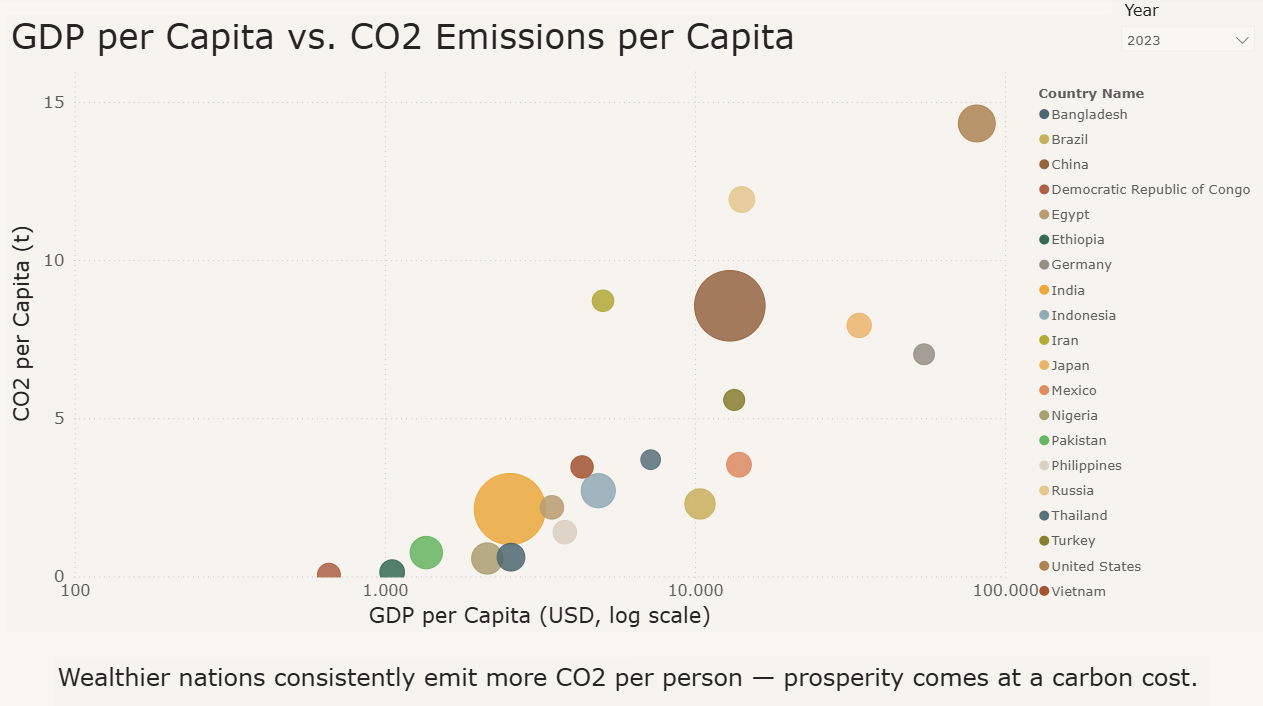

What the dashboard file says about the page in this screenshot:
{"tool":"powerbi","page":{"name":"co2 x gdp","canvas":[1280,720],"ordinal":3},"visuals":[{"type":"scatterChart","title":"GDP per Capita vs. CO2 Emissions per Capita","fields":{"Y":["demographics.CO2_per_Capita"],"Size":["select","Sum(demographics.Population)"],"Series":["demographics.Country Name"],"X":["demographics.GDP_per_Capita"]},"box":[9.8,19.6,1270.3,624],"z":0},{"type":"slicer","fields":{"Values":["global_co2_temp.Year"]},"box":[1124.8,643.5,155.3,76.9],"z":1000},{"type":"textbox","box":[0,667.3,1137.4,53.2],"z":1001}]}

Visuals, with their boxes in screenshot pixels (x1, y1, x2, y2), scaled from the page's 1280x720 canvas onto the 1263x706 screenshot:
"GDP per Capita vs. CO2 Emissions per Capita" scatterChart: <region>10, 19, 1262, 631</region>
slicer - global_co2_temp.Year: <region>1110, 631, 1262, 705</region>
textbox: <region>0, 654, 1122, 705</region>
